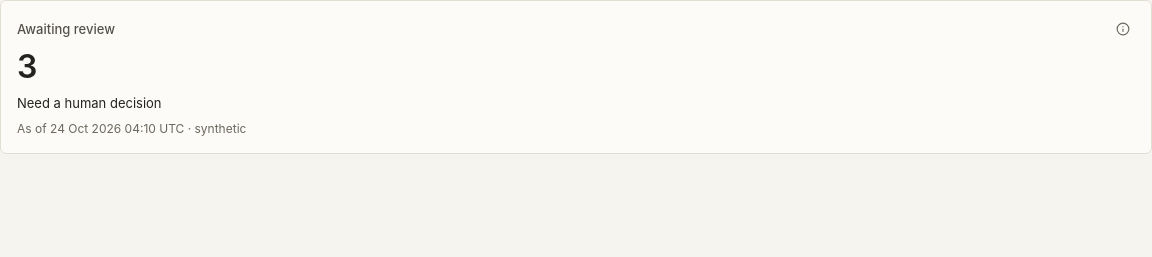
Scenario: Overview building blocks › states how a metric is calculated, from where, and as of when
Expected: the text "Count of active cases in review states" is not shown
Click the button named "How \"Awaiting review\" is calculated".
click(1123, 29)  # box [1111, 17, 1135, 41]
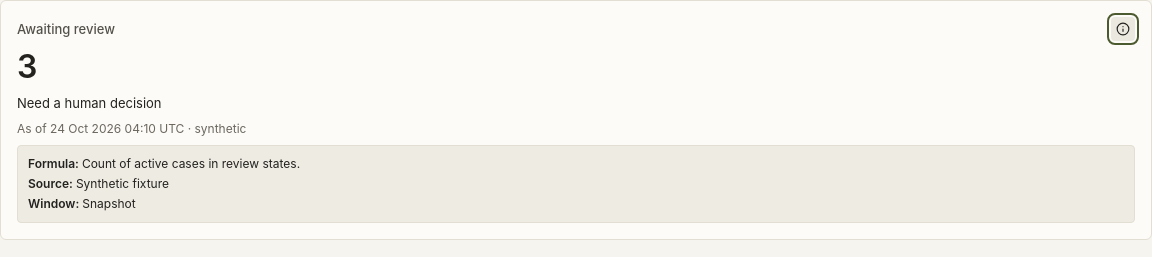
Expected: the text "Formula: Count of active cases in review states." is shown, [28, 156, 300, 171]
